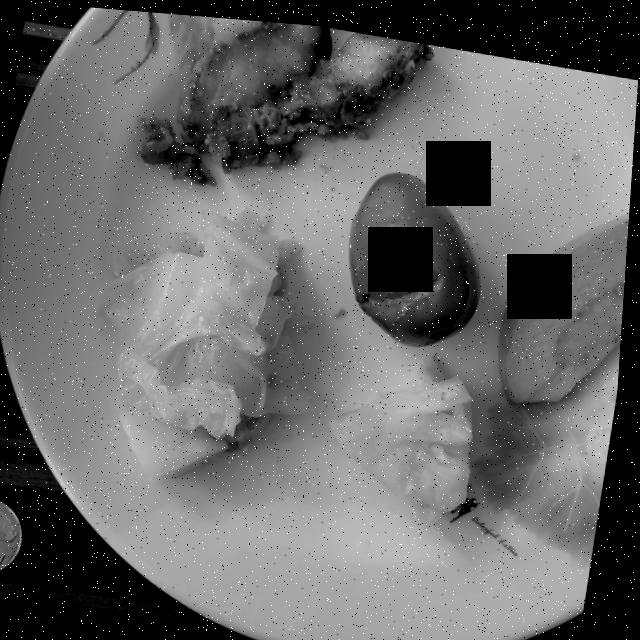cabbage: (95, 206, 318, 478)
coin: (0, 497, 30, 572)
guava -sliced-: (503, 200, 632, 392)
pineapple: (333, 348, 478, 518)
red grilled pork: (141, 16, 433, 180)
soy egg: (351, 164, 483, 338)
